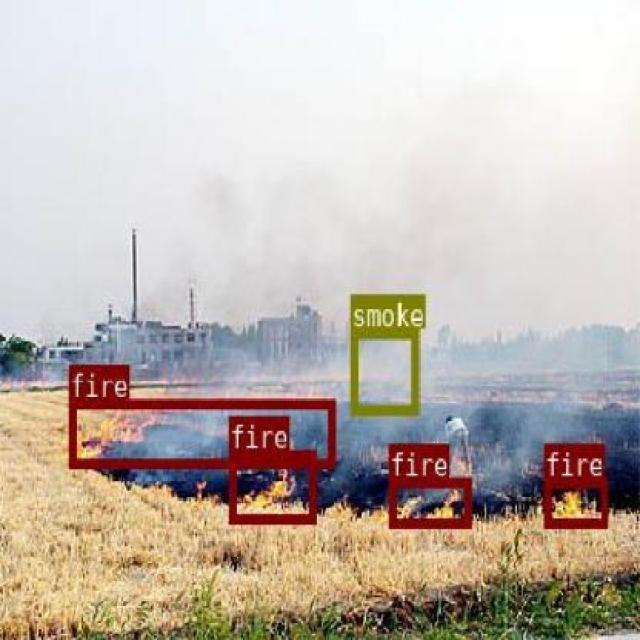Fire: (69, 396, 334, 467), (228, 449, 314, 522), (388, 476, 470, 526), (544, 477, 606, 526)
Smoke: (350, 328, 416, 414)
